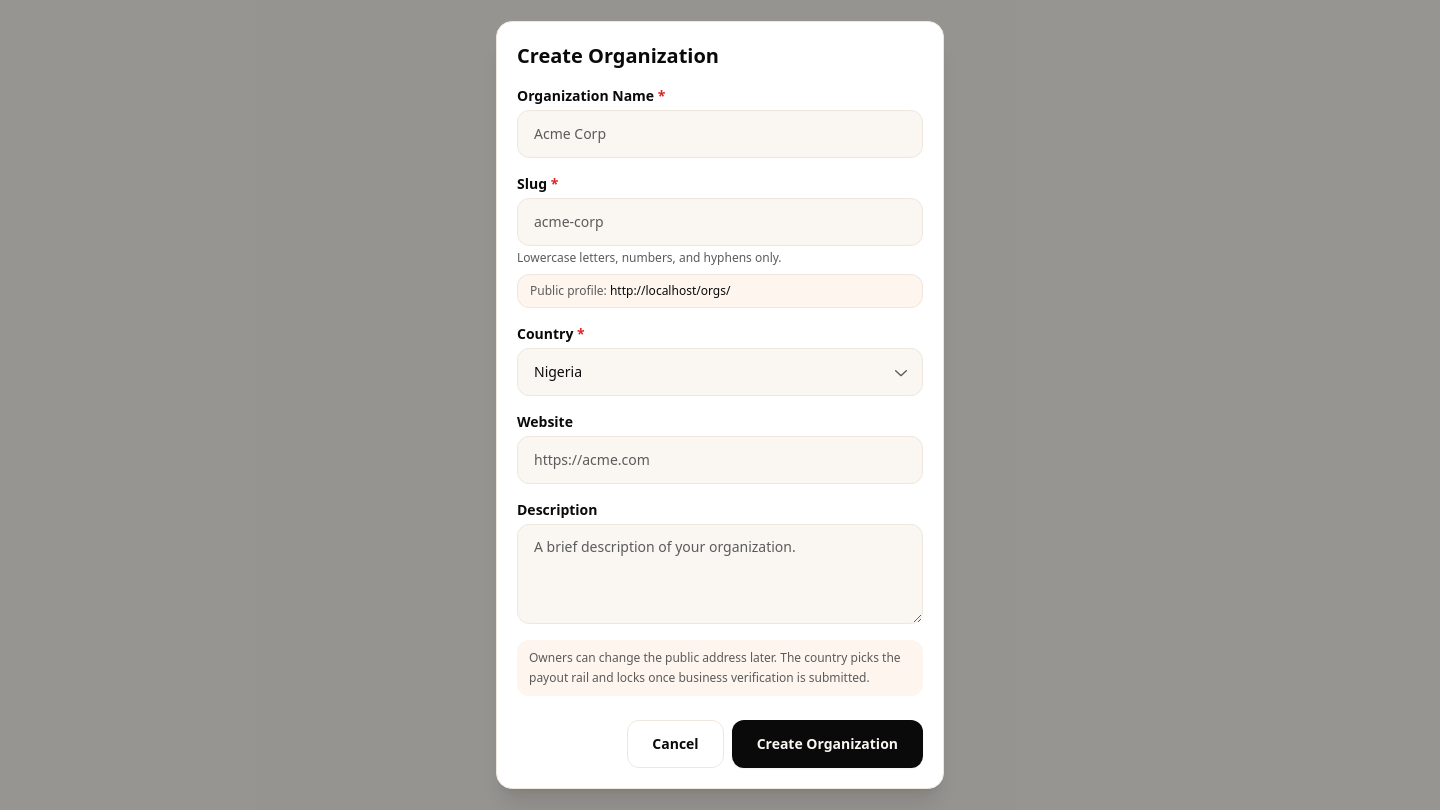
Scenario: CreateOrganizationDialog slug preview and server errors › shows the server message on a slug conflict instead of a raw code
Type "Acme" into the field labelled "Organization Name *" at (720, 134), box [517,110,923,158]
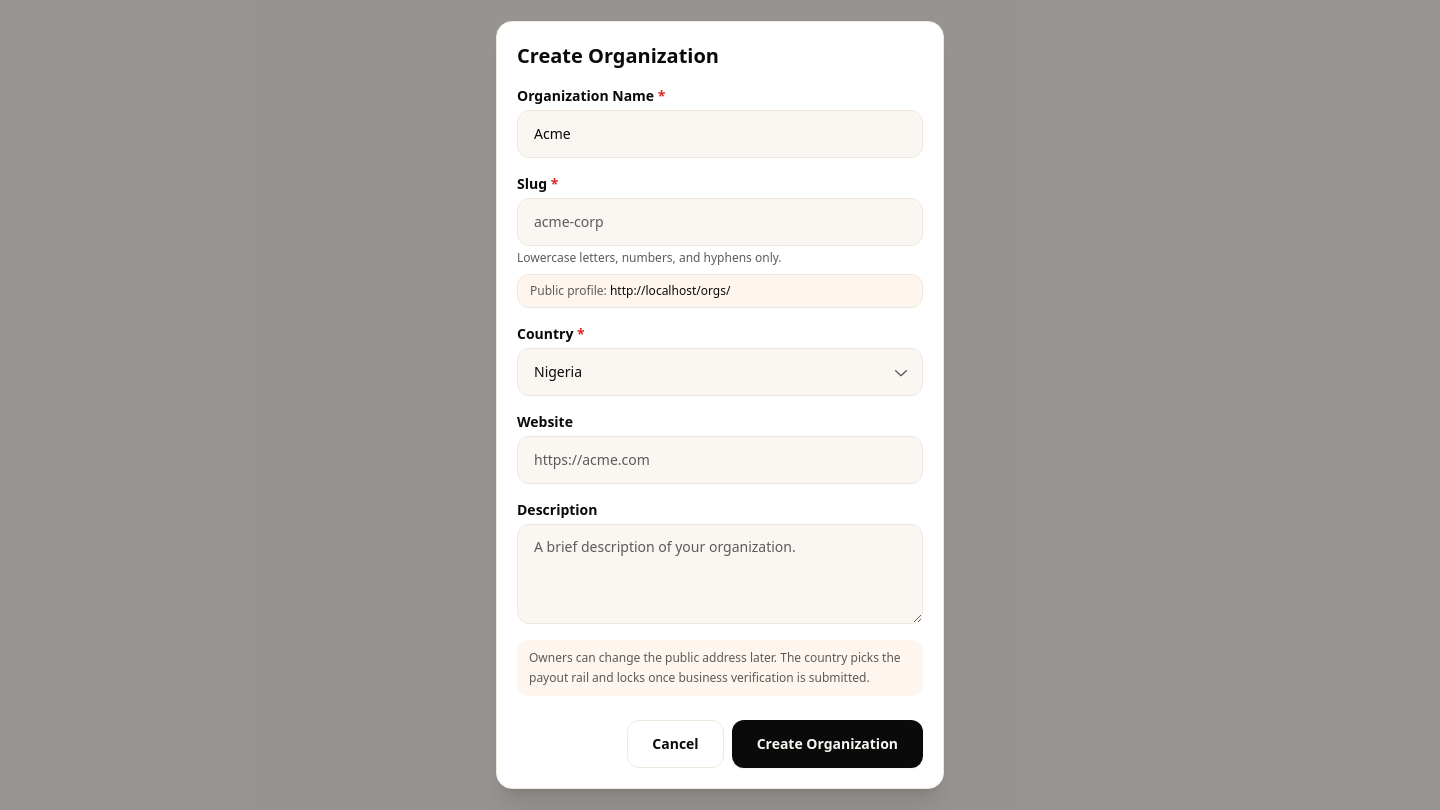
Type "acme" into the field labelled "Slug *" at (720, 222), box [517,198,923,246]
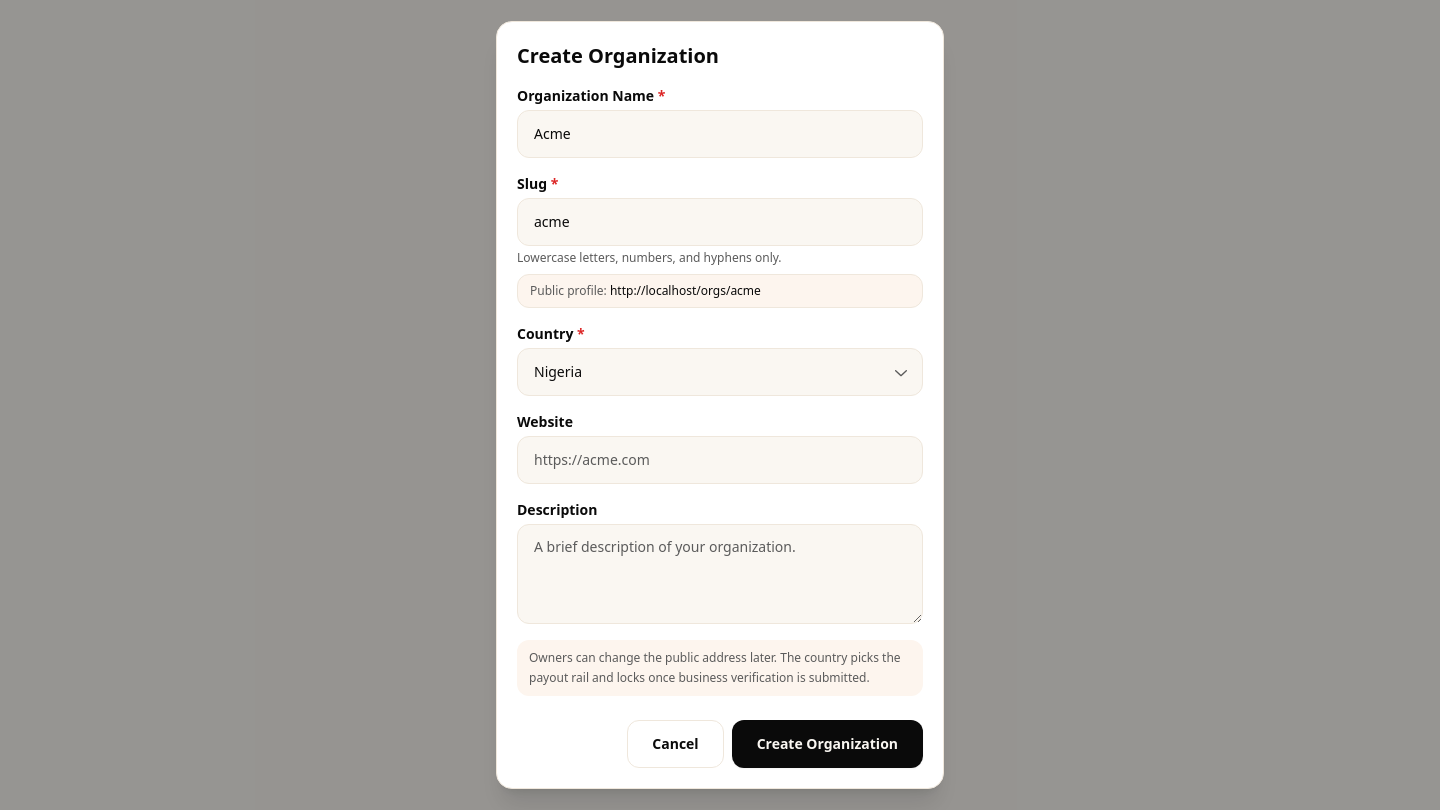
Click the button "Create Organization" at (827, 744), box [732,720,923,768]
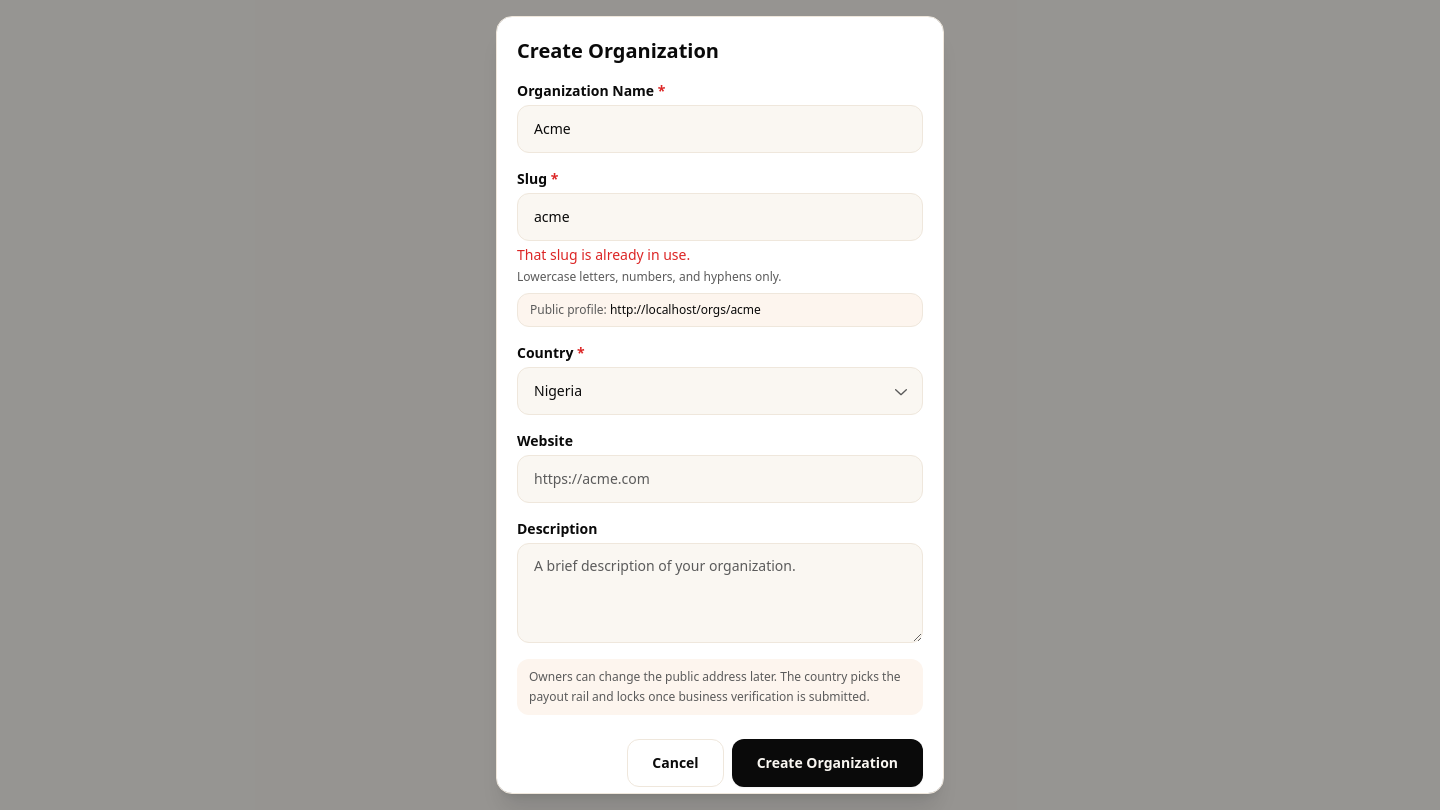
Now the text "That slug is already in use." is shown, box [517,245,690,264]
